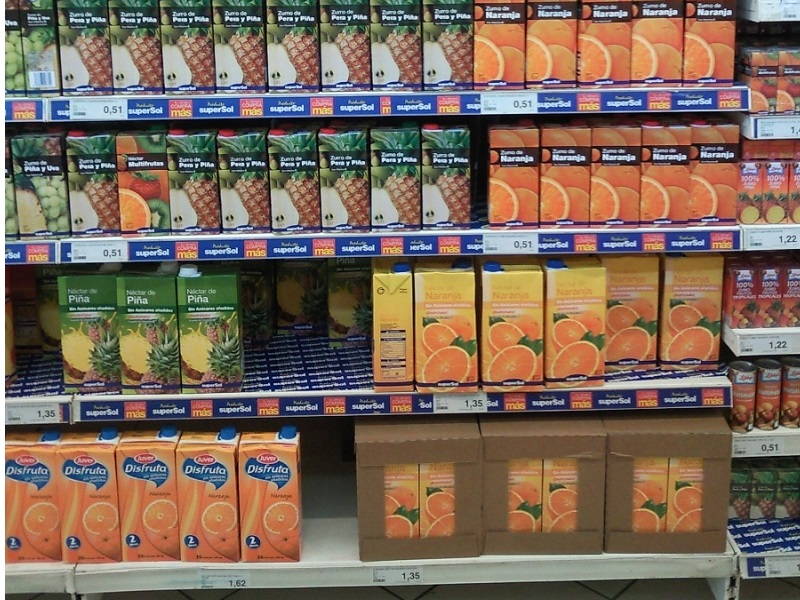juice: (235, 429, 312, 569), (176, 263, 254, 397), (56, 429, 130, 568), (409, 259, 483, 396), (116, 428, 187, 568), (175, 431, 246, 568), (116, 261, 184, 398), (480, 256, 547, 394), (543, 259, 607, 395), (6, 426, 67, 568), (661, 248, 727, 377), (113, 124, 177, 243), (9, 127, 75, 242), (363, 124, 430, 236), (264, 124, 328, 238), (163, 123, 225, 240), (314, 122, 377, 236), (585, 114, 643, 236), (483, 118, 545, 232), (64, 125, 123, 243), (637, 118, 696, 235), (418, 122, 476, 236), (214, 128, 275, 235), (538, 116, 594, 230), (690, 117, 741, 231)
